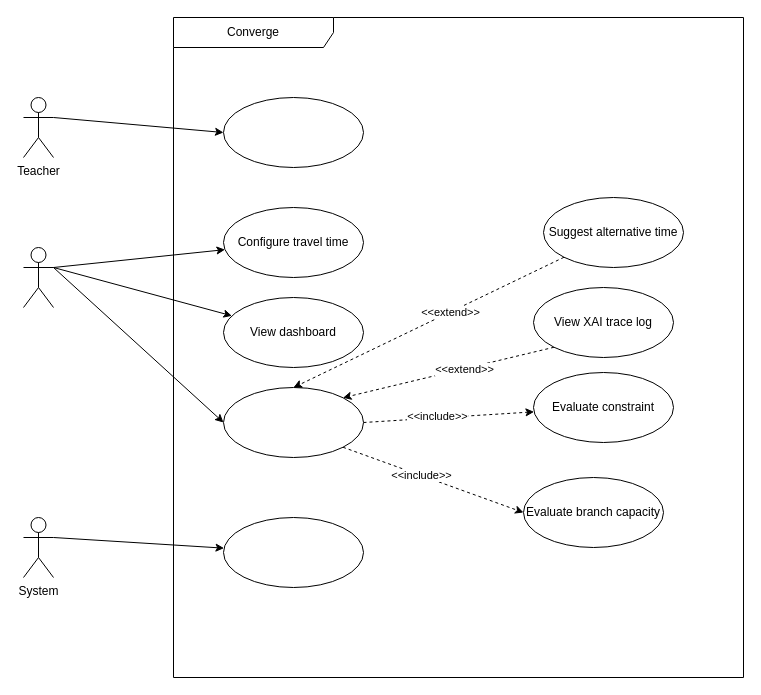
Some shapes in this 761 by 695 pixel diagram are drawn without their labels. The centre of each missing label's shape, as x and y in pixels:
"Admin" goes at pixel 38 277.
"Execute automated backup" goes at pixel 293 552.
"Process booking request" goes at pixel 293 422.
"Submit availability" goes at pixel 293 132.
